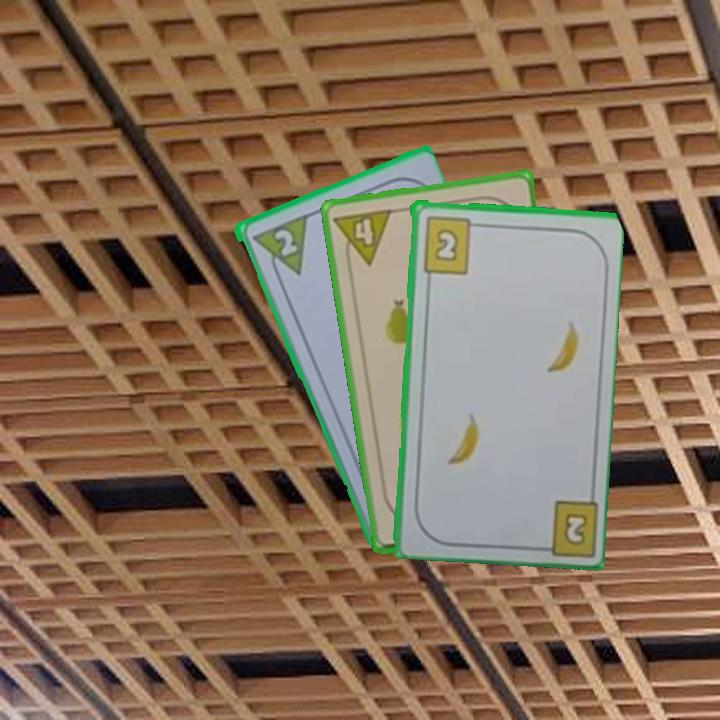2b: (419, 212, 483, 276), (560, 509, 590, 548)
2p: (247, 211, 310, 285)
4p: (330, 205, 395, 271)
